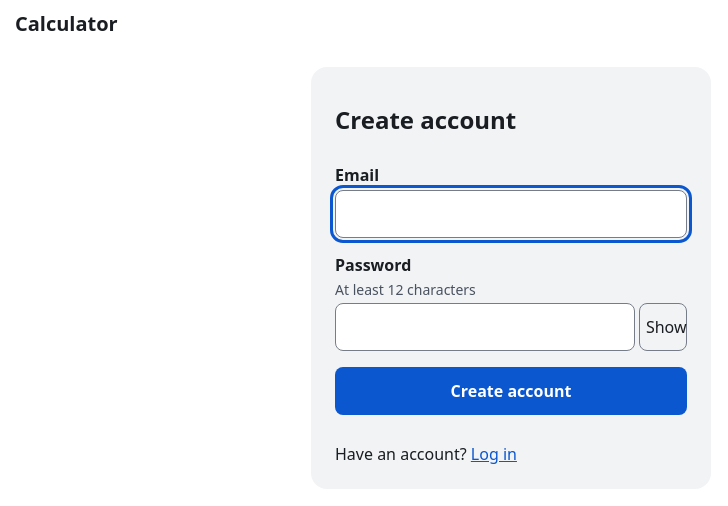
#3 AC2: sign up with email and password › Show/Hide toggles the password; name starts with the visible label (D13)
The image size is (728, 506).
Expected: the heading "Create account" is shown, [335,103,516,136]
What coordinates should you click on to do the following:
click the button with aria-label "Show password"
I would click on:
 (663, 327)
Its box is [639,303,687,351].
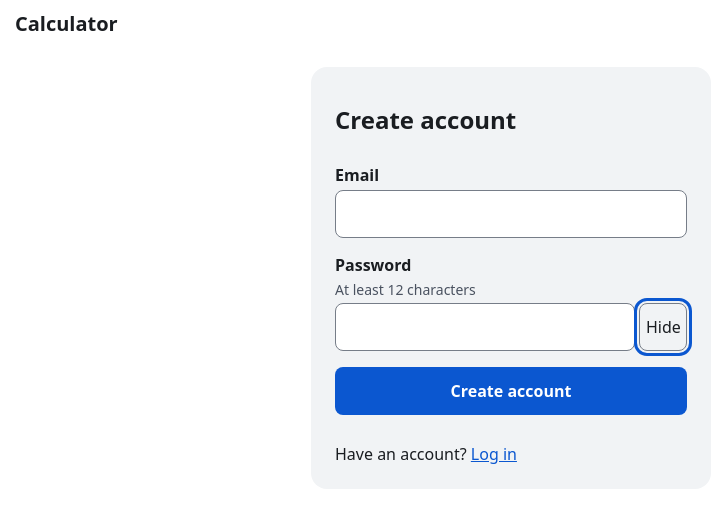
Expected: the button with aria-label "Hide password" reads "Hide", [639,303,687,351]
